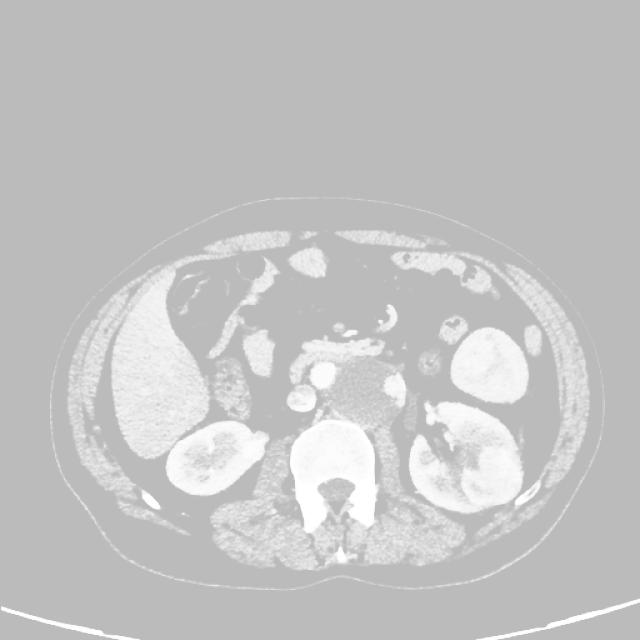TUMOR: (61, 271, 561, 534)
